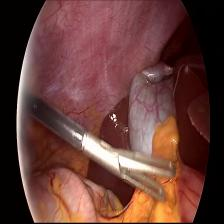Grasper: (86, 133, 177, 208)
